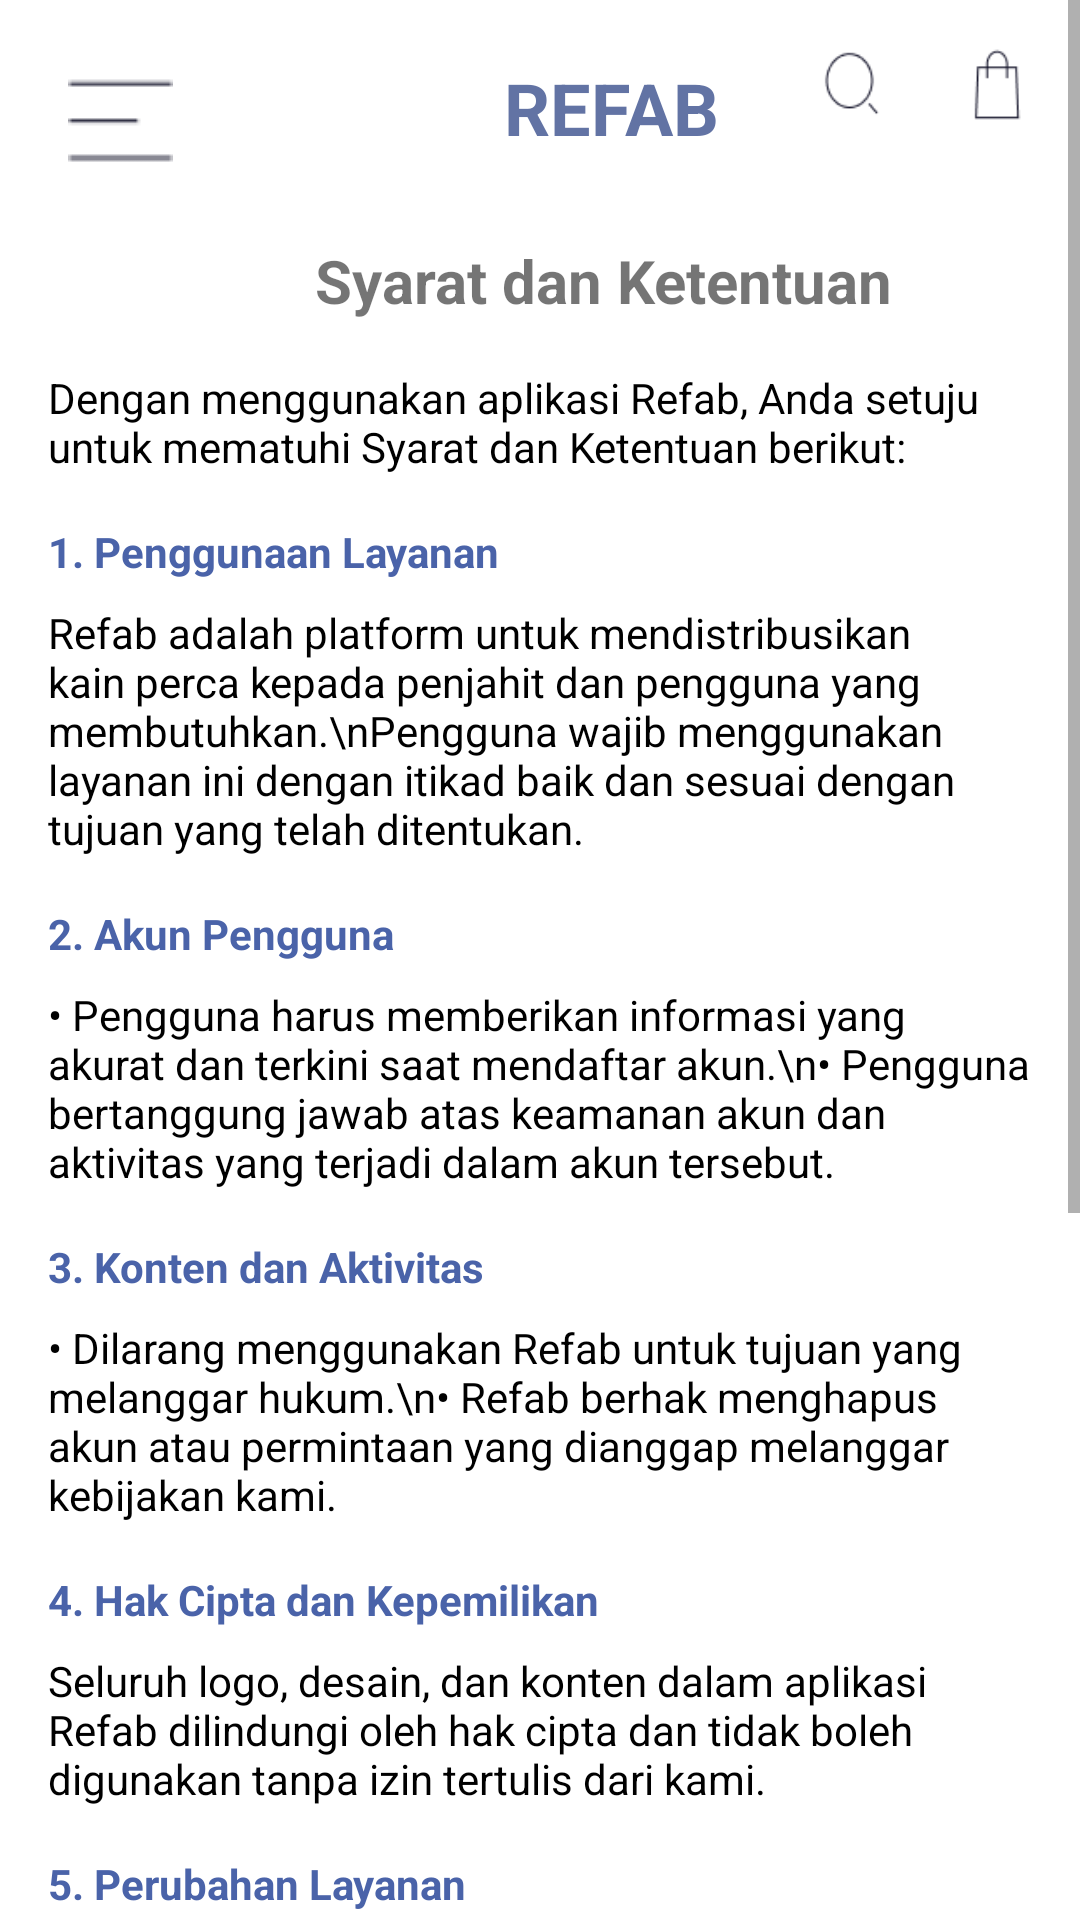

Icon click points for this 1080×1920 phone screenshot, format point (x, y):
cart: point (997, 85)
Menu: point (120, 121)
search: point (851, 83)
